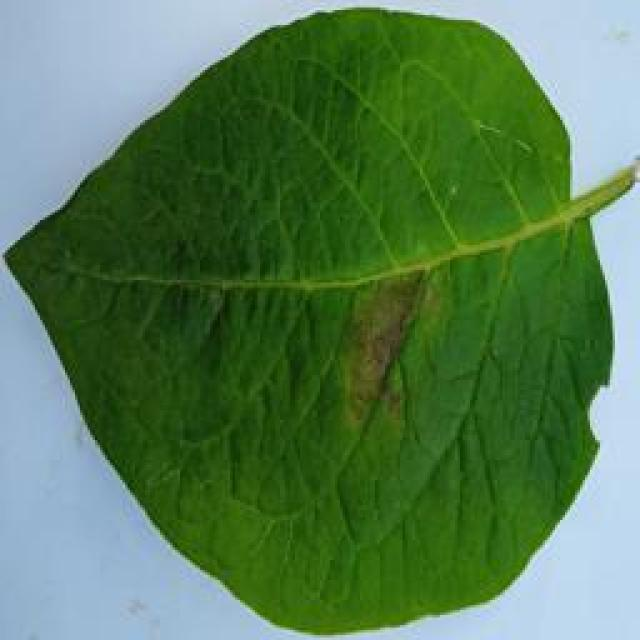Potato_Late_Blight: (3, 13, 614, 630)
